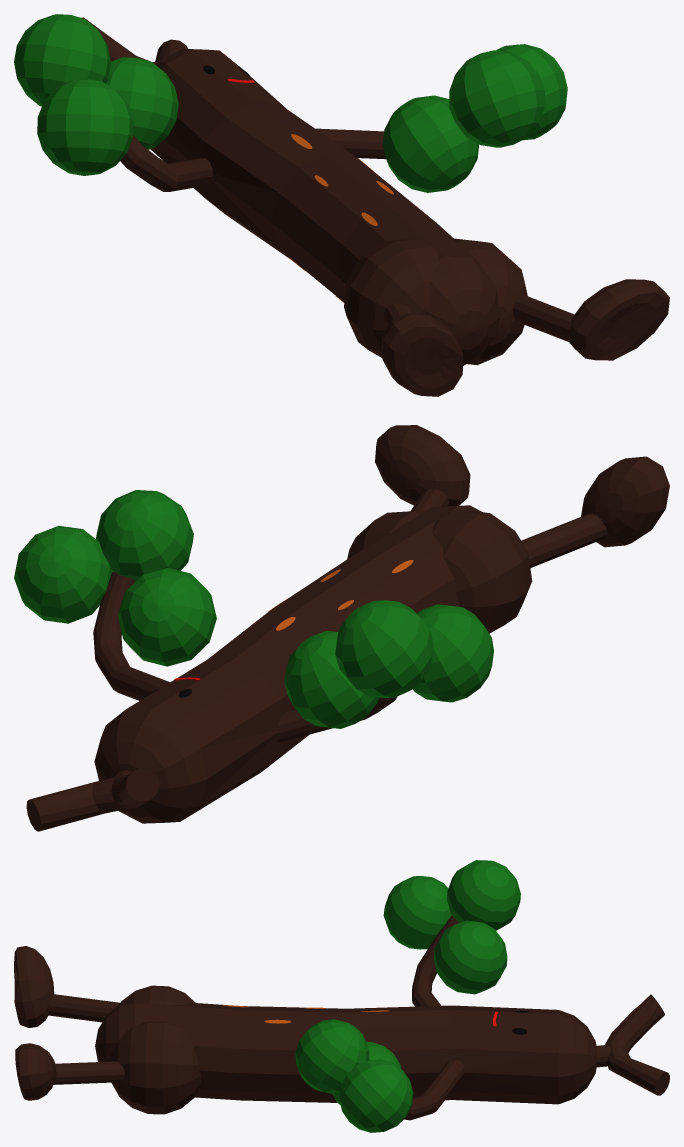
Rendered from Men_accessory_Sudowoodo_600.010bc89c.glb.
The picture shows the model from 3 angles, top to bottom: view 1: azimuth 30°, elevation 25°; view 2: azimuth 150°, elevation 25°; view 3: azimuth 270°, elevation 25°; orthographic projection. The views are drawn at different scales.
Visible parts, largest first — view 1: imagetostl_mesh0, imagetostl_mesh16, imagetostl_mesh14, imagetostl_mesh18, imagetostl_mesh1, imagetostl_mesh15, imagetostl_mesh8, imagetostl_mesh7, imagetostl_mesh17, imagetostl_mesh2, imagetostl_mesh12, imagetostl_mesh19 (+3 smaller); view 2: imagetostl_mesh0, imagetostl_mesh1, imagetostl_mesh15, imagetostl_mesh18, imagetostl_mesh19, imagetostl_mesh14, imagetostl_mesh16, imagetostl_mesh8, imagetostl_mesh7, imagetostl_mesh17, imagetostl_mesh11, imagetostl_mesh13 (+3 smaller); view 3: imagetostl_mesh0, imagetostl_mesh2, imagetostl_mesh19, imagetostl_mesh17, imagetostl_mesh15, imagetostl_mesh14, imagetostl_mesh16, imagetostl_mesh11, imagetostl_mesh7, imagetostl_mesh8, imagetostl_mesh13, imagetostl_mesh3 (+4 smaller).
Boxes of the visible parts, x1,y1,x2,y2 form: imagetostl_mesh0: (150, 48, 500, 365); imagetostl_mesh16: (37, 78, 133, 175); imagetostl_mesh14: (449, 50, 544, 147); imagetostl_mesh18: (382, 95, 479, 192); imagetostl_mesh1: (344, 238, 438, 357); imagetostl_mesh15: (14, 14, 110, 106); imagetostl_mesh8: (569, 279, 669, 360); imagetostl_mesh7: (381, 313, 463, 396); imagetostl_mesh17: (106, 57, 178, 149); imagetostl_mesh2: (453, 238, 527, 365); imagetostl_mesh12: (120, 135, 212, 191); imagetostl_mesh19: (497, 44, 567, 140); imagetostl_mesh0: (94, 505, 482, 823); imagetostl_mesh1: (432, 510, 532, 633); imagetostl_mesh15: (335, 600, 433, 697); imagetostl_mesh18: (118, 568, 216, 666); imagetostl_mesh19: (14, 525, 111, 623); imagetostl_mesh14: (96, 490, 193, 580); imagetostl_mesh16: (413, 604, 493, 702); imagetostl_mesh8: (375, 425, 470, 505); imagetostl_mesh7: (581, 456, 669, 547); imagetostl_mesh17: (284, 630, 379, 728); imagetostl_mesh11: (26, 768, 159, 831); imagetostl_mesh13: (93, 571, 169, 700); imagetostl_mesh0: (95, 1002, 596, 1104); imagetostl_mesh2: (109, 1021, 200, 1114); imagetostl_mesh19: (339, 1059, 413, 1132); imagetostl_mesh17: (433, 920, 507, 994); imagetostl_mesh15: (447, 860, 520, 930); imagetostl_mesh14: (295, 1019, 369, 1093); imagetostl_mesh16: (383, 876, 451, 949); imagetostl_mesh11: (605, 994, 669, 1095); imagetostl_mesh7: (14, 946, 54, 1027); imagetostl_mesh8: (15, 1043, 56, 1100); imagetostl_mesh13: (404, 1059, 464, 1120); imagetostl_mesh3: (53, 1061, 124, 1084).
Bounding box in the file's own units: 219 × 98.79 × 334.
